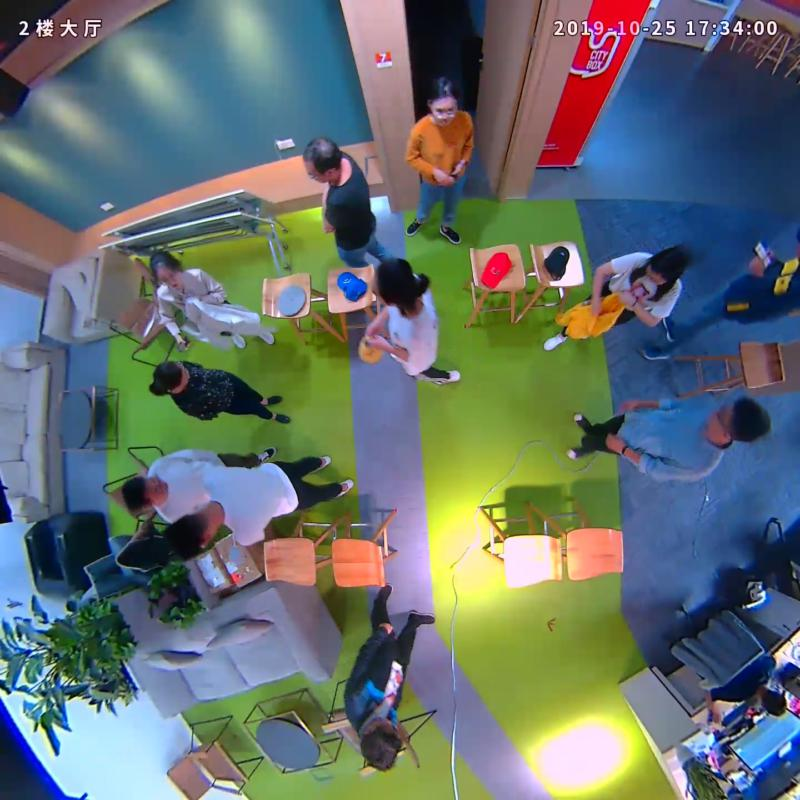head: (708, 397, 772, 444), (165, 512, 219, 558), (360, 717, 403, 772), (371, 257, 414, 306), (301, 137, 342, 184), (425, 74, 458, 126), (644, 248, 686, 285), (122, 475, 169, 508), (150, 249, 182, 290), (152, 360, 189, 395)
